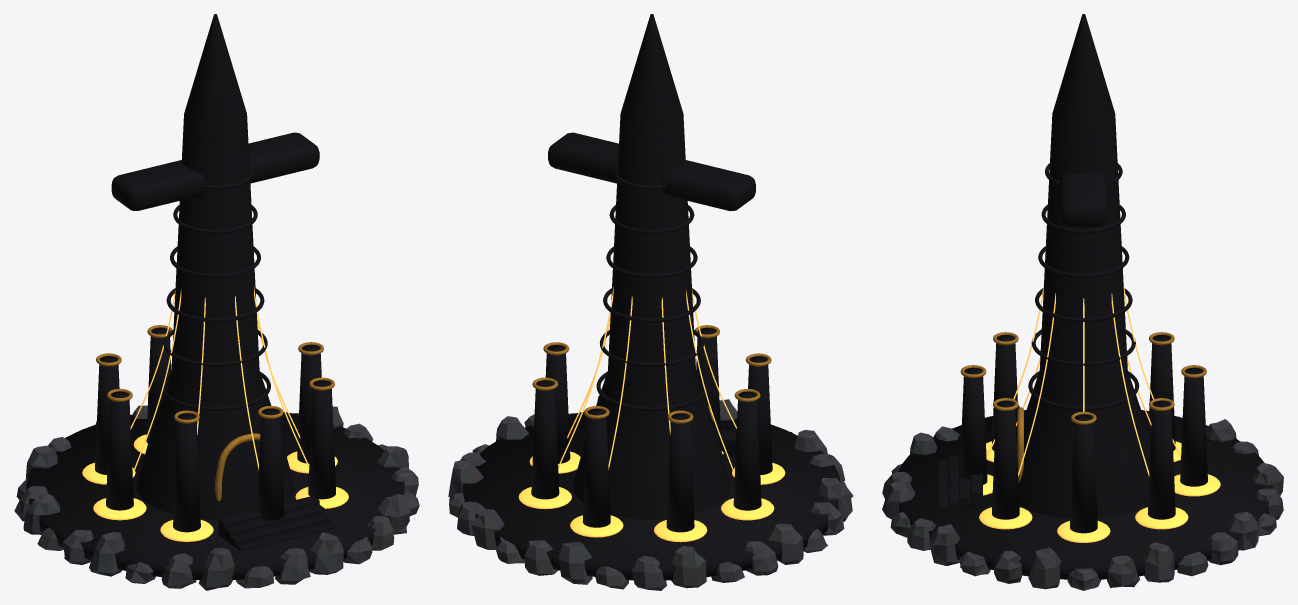
Rendered from ember.glb.
The picture shows the model from 3 angles, left to right: view 1: azimuth 30°, elevation 25°; view 2: azimuth 150°, elevation 25°; view 3: azimuth 270°, elevation 25°; orthographic projection.
Parts seen in each view (by area): view 1: ember_Obsidian iron, Polish_ember_architectural_detail, ember_Furnace glow, ember_Aged gold; view 2: ember_Obsidian iron, Polish_ember_architectural_detail, ember_Furnace glow, ember_Aged gold; view 3: ember_Obsidian iron, Polish_ember_architectural_detail, ember_Furnace glow, ember_Aged gold.
Boxes of the visible parts, x1=… form: ember_Obsidian iron: x1=26, y1=14, x2=404, y2=580; Polish_ember_architectural_detail: x1=14, y1=405, x2=419, y2=590; ember_Furnace glow: x1=82, y1=287, x2=348, y2=541; ember_Aged gold: x1=96, y1=325, x2=334, y2=501; ember_Obsidian iron: x1=462, y1=14, x2=840, y2=580; Polish_ember_architectural_detail: x1=448, y1=395, x2=853, y2=590; ember_Furnace glow: x1=518, y1=286, x2=785, y2=542; ember_Aged gold: x1=532, y1=325, x2=771, y2=423; ember_Obsidian iron: x1=898, y1=14, x2=1272, y2=579; Polish_ember_architectural_detail: x1=882, y1=405, x2=1283, y2=590; ember_Furnace glow: x1=979, y1=281, x2=1220, y2=542; ember_Aged gold: x1=960, y1=332, x2=1206, y2=482.
Size of the model in its own units: 25.89 by 34.53 by 25.51.
4 materials, 3 textured.
